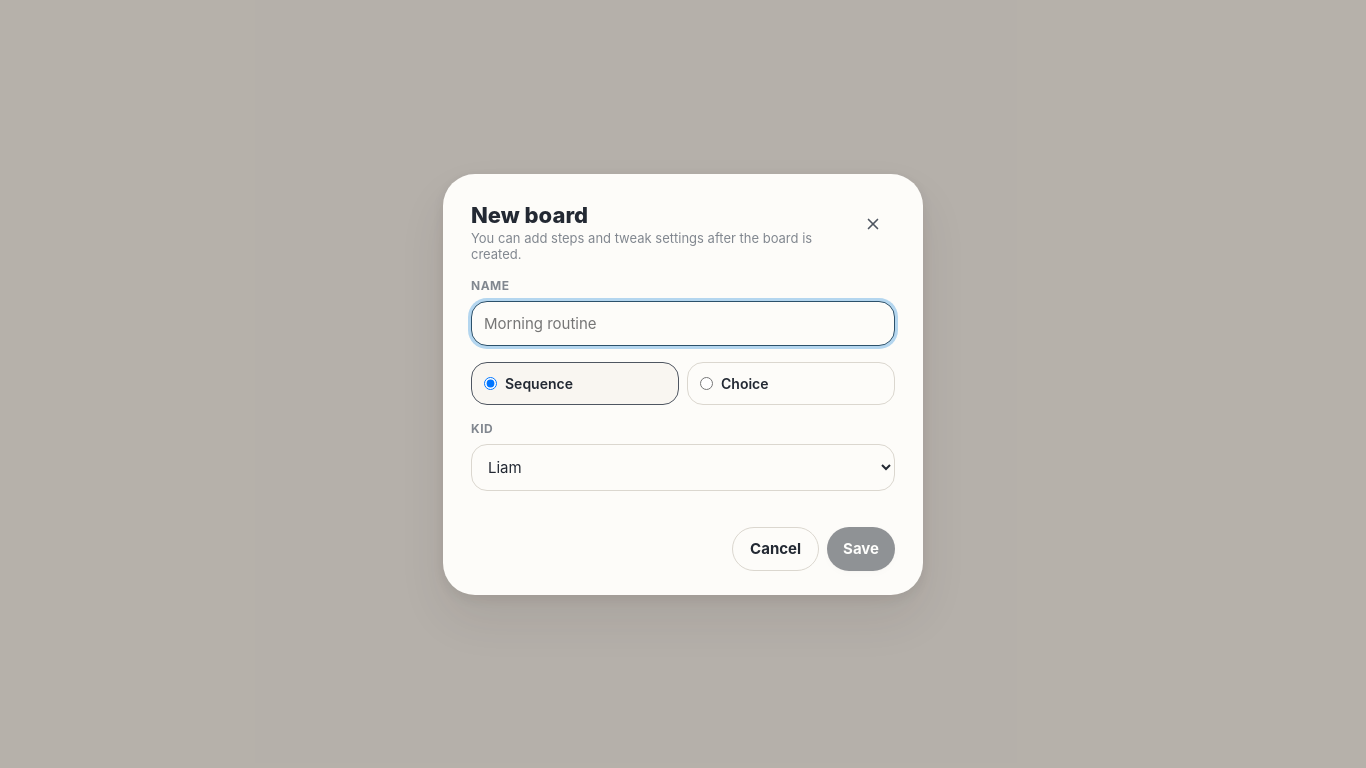
Test: NewBoardModal › renders an inline error when the mutation fails
In the field labelled "Name": (683, 323) [471,300,895,346], type "X"
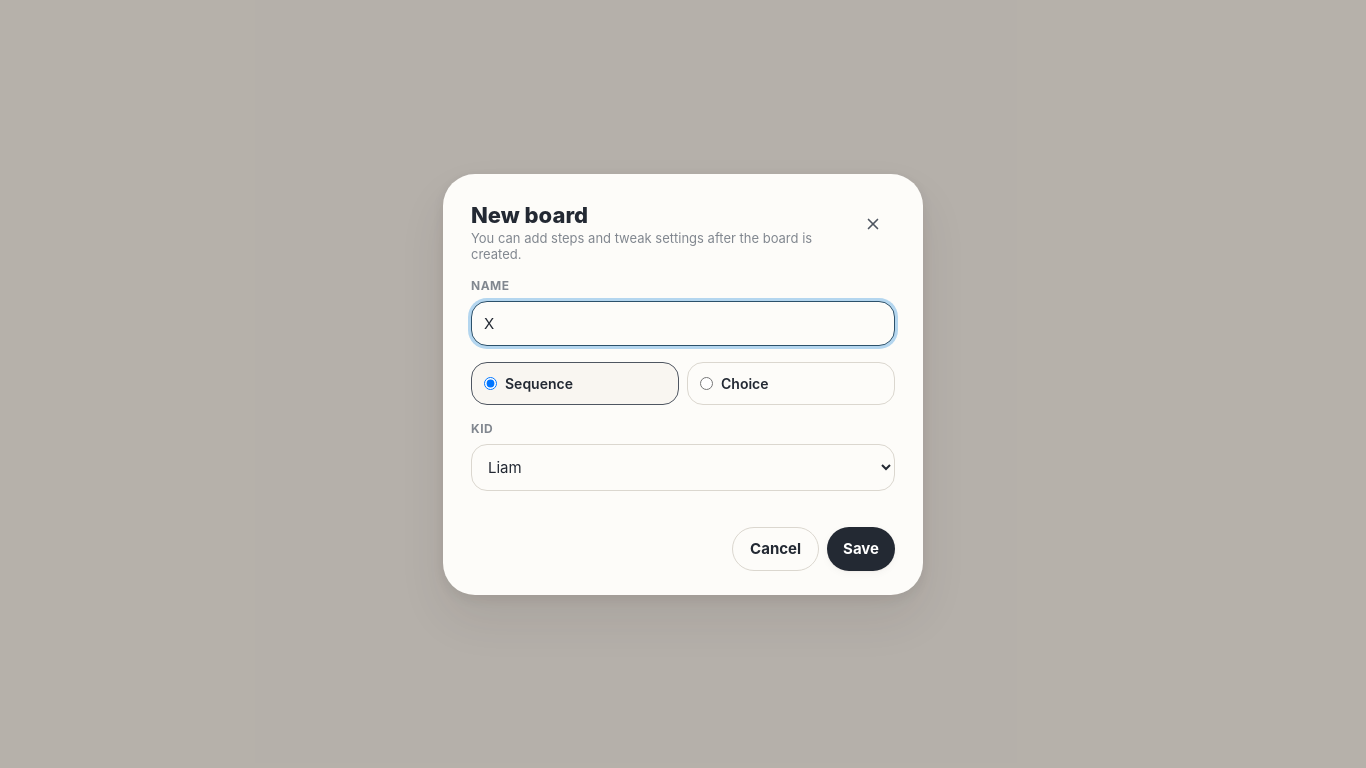
Click the button "Save": (861, 548) [827,526,895,570]
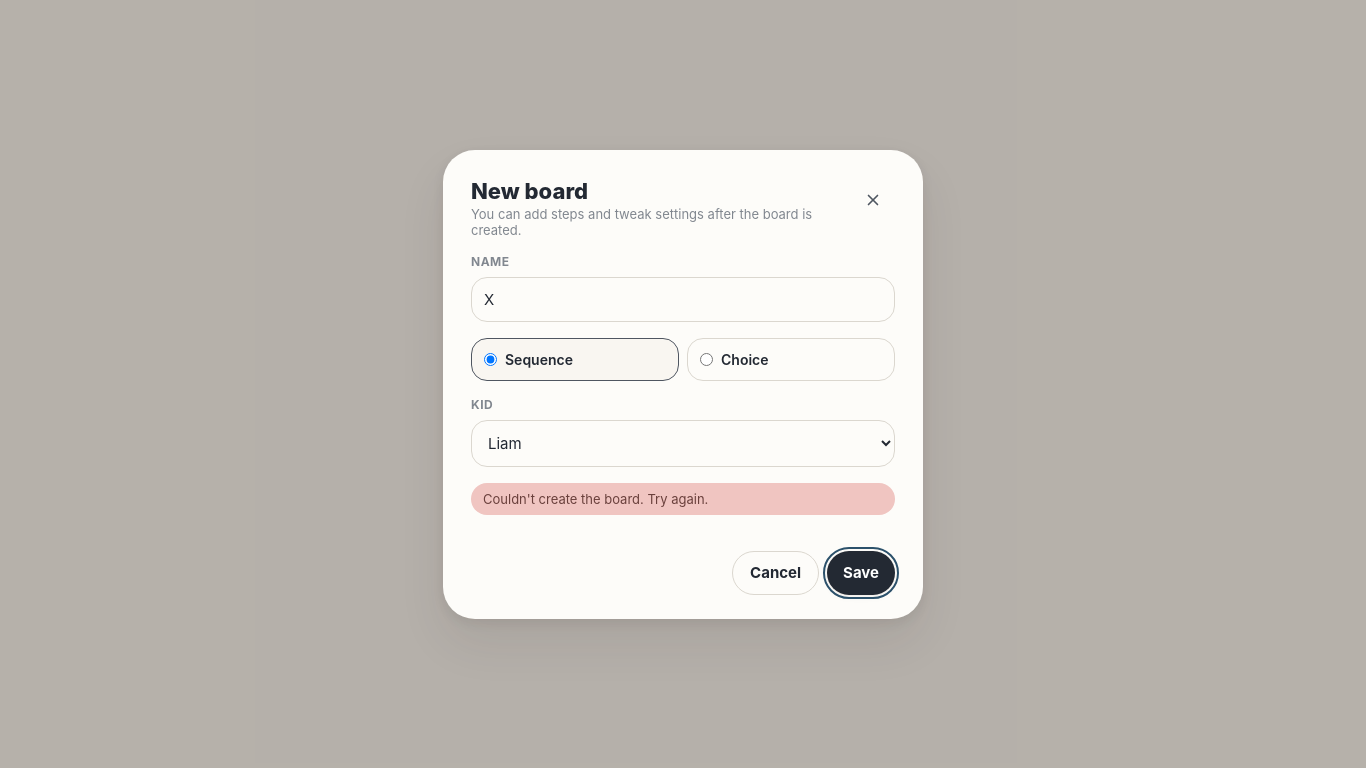
Expected: the message reads "Couldn't create the board. Try again.", [483,490,708,506]
